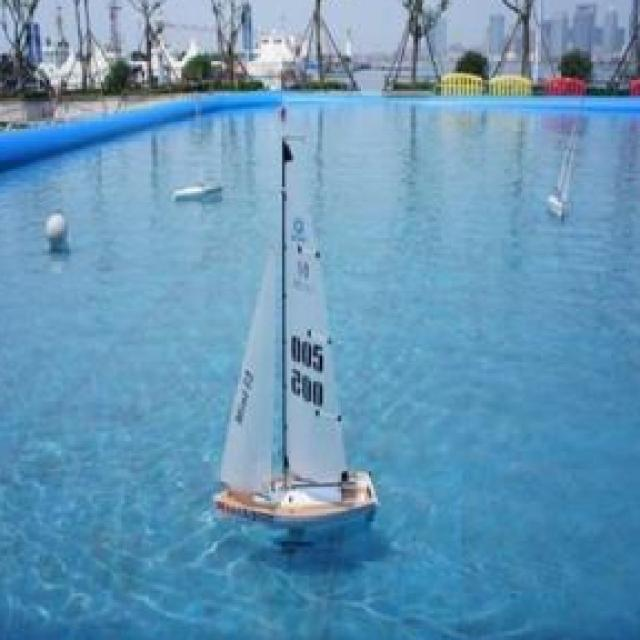sailboat: (212, 97, 388, 528), (538, 118, 582, 220)
